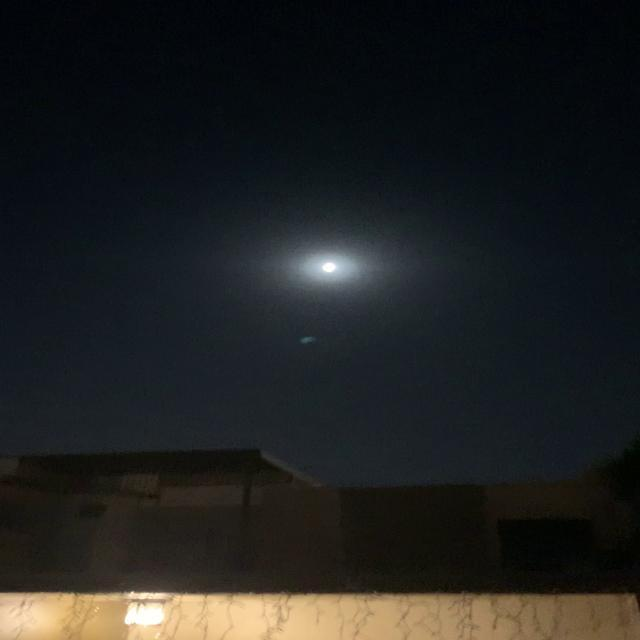moon: (312, 256, 364, 280)
